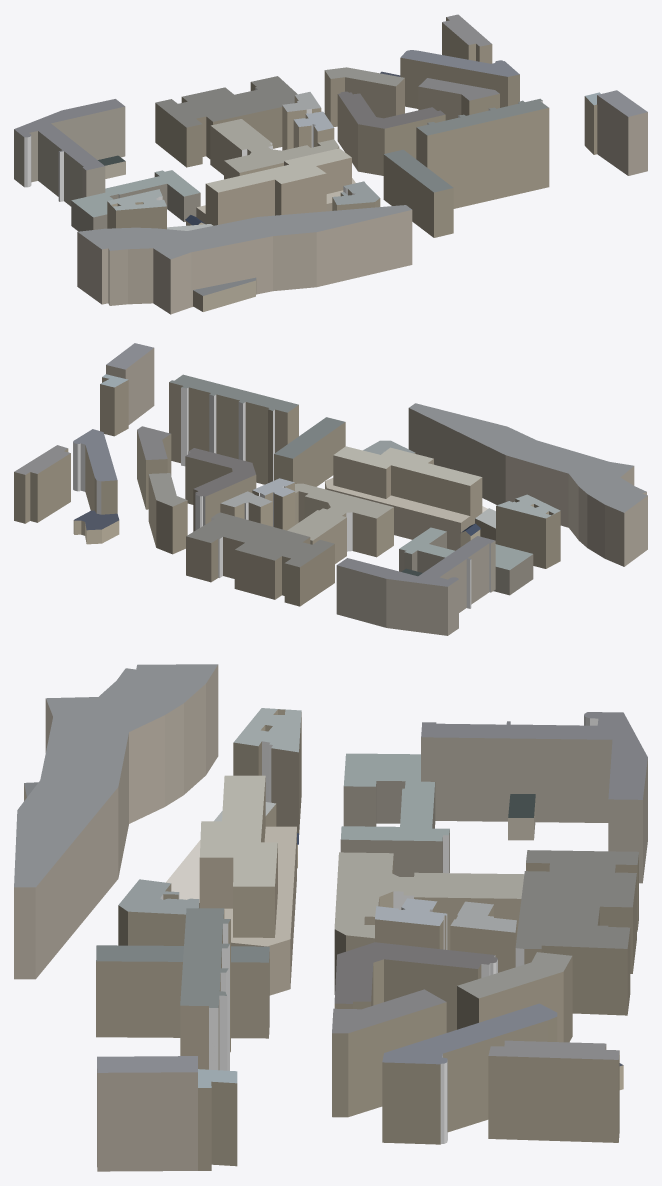
The picture shows the model from 3 angles, top to bottom: view 1: azimuth 30°, elevation 25°; view 2: azimuth 150°, elevation 25°; view 3: azimuth 270°, elevation 25°; orthographic projection. The views are drawn at different scales.
Parts seen in each view (by area): view 1: tuile; view 2: tuile; view 3: tuile.
Part boxes in pixels (x1,y1,x2,y2): tuile: (14,14,647,314); tuile: (14,343,647,635); tuile: (14,664,647,1171).
Size of the model in its own units: 278 by 39.48 by 171.
